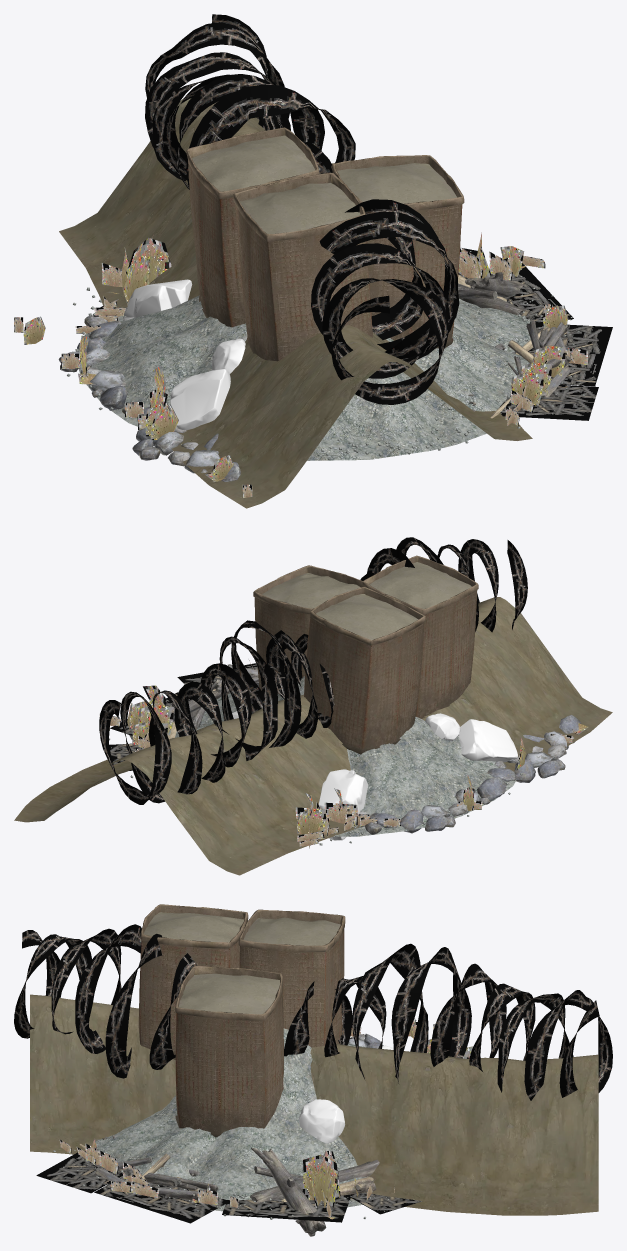
Rendered from dirt_mound_1200_s_right.glb.
The picture shows the model from 3 angles, top to bottom: view 1: azimuth 30°, elevation 25°; view 2: azimuth 150°, elevation 25°; view 3: azimuth 270°, elevation 25°; orthographic projection. The views are drawn at different scales.
Visible parts, largest first — view 1: barbedwire_set_SShape (3), dirt_mound_1200_S_Right_LOD0, coal_pile_gravel_6x6 (7), hesco_barrier_tall (45), hesco_barrier_tall (44), hesco_barrier_tall (46), driftwood_set_2_LOD0, cracks_grass_e_arid (12), driftwood_set_3_LOD0, cracks_grass_d_arid (5), Clutter_medium_d_arid Variant (7), cave_gravel_b (12) (+6 smaller); view 2: dirt_mound_1200_S_Right_LOD0, barbedwire_set_SShape (3), hesco_barrier_tall (44), coal_pile_gravel_6x6 (7), hesco_barrier_tall (45), hesco_barrier_tall (46), cave_gravel_b (12), cave_gravel_b (13), cracks_grass_d_arid (5), Clutter_medium_d_arid Variant (7), cracks_grass_i_arid (1), Clutter_medium_d_arid Variant (6) (+4 smaller); view 3: dirt_mound_1200_S_Right_LOD0, barbedwire_set_SShape (3), hesco_barrier_tall (46), coal_pile_gravel_6x6 (7), hesco_barrier_tall (44), hesco_barrier_tall (45), driftwood_set_3_LOD0, driftwood_set_2_LOD0, cracks_grass_i_arid (1), Clutter_medium_c_arid Variant (13), cracks_grass_h_arid (1), cracks_grass_f_arid (9).
Boxes of the visible parts, box(x1,y1,x2,y2) form: barbedwire_set_SShape (3): box(145, 14, 459, 404); dirt_mound_1200_S_Right_LOD0: box(59, 97, 532, 508); coal_pile_gravel_6x6 (7): box(67, 251, 584, 460); hesco_barrier_tall (45): box(233, 172, 372, 361); hesco_barrier_tall (44): box(186, 127, 319, 327); hesco_barrier_tall (46): box(331, 155, 464, 348); driftwood_set_2_LOD0: box(468, 320, 612, 420); cracks_grass_e_arid (12): box(14, 316, 252, 498); driftwood_set_3_LOD0: box(458, 248, 573, 324); cracks_grass_d_arid (5): box(75, 235, 171, 333); Clutter_medium_d_arid Variant (7): box(170, 368, 230, 430); cave_gravel_b (12): box(58, 315, 133, 410); dirt_mound_1200_S_Right_LOD0: box(14, 597, 612, 875); barbedwire_set_SShape (3): box(99, 537, 527, 804); hesco_barrier_tall (44): box(304, 587, 425, 754); coal_pile_gravel_6x6 (7): box(109, 676, 522, 845); hesco_barrier_tall (45): box(362, 555, 478, 718); hesco_barrier_tall (46): box(253, 565, 362, 693); cave_gravel_b (12): box(359, 777, 506, 834); cave_gravel_b (13): box(487, 714, 581, 782); cracks_grass_d_arid (5): box(295, 788, 400, 848); Clutter_medium_d_arid Variant (7): box(459, 719, 517, 762); cracks_grass_i_arid (1): box(99, 685, 173, 751); Clutter_medium_d_arid Variant (6): box(318, 769, 368, 840); dirt_mound_1200_S_Right_LOD0: box(30, 994, 598, 1215); barbedwire_set_SShape (3): box(14, 924, 612, 1100); hesco_barrier_tall (46): box(175, 965, 283, 1137); coal_pile_gravel_6x6 (7): box(53, 1028, 388, 1219); hesco_barrier_tall (44): box(238, 909, 345, 1047); hesco_barrier_tall (45): box(138, 904, 248, 1059); driftwood_set_3_LOD0: box(222, 1148, 422, 1236); driftwood_set_2_LOD0: box(36, 1135, 229, 1223); cracks_grass_i_arid (1): box(302, 1150, 394, 1219); Clutter_medium_c_arid Variant (13): box(299, 1099, 345, 1143); cracks_grass_h_arid (1): box(59, 1138, 148, 1185); cracks_grass_f_arid (9): box(110, 1181, 238, 1207).
Bounding box in the file's own units: 10.38 × 4.75 × 12.65.
9 materials, 8 textured.
